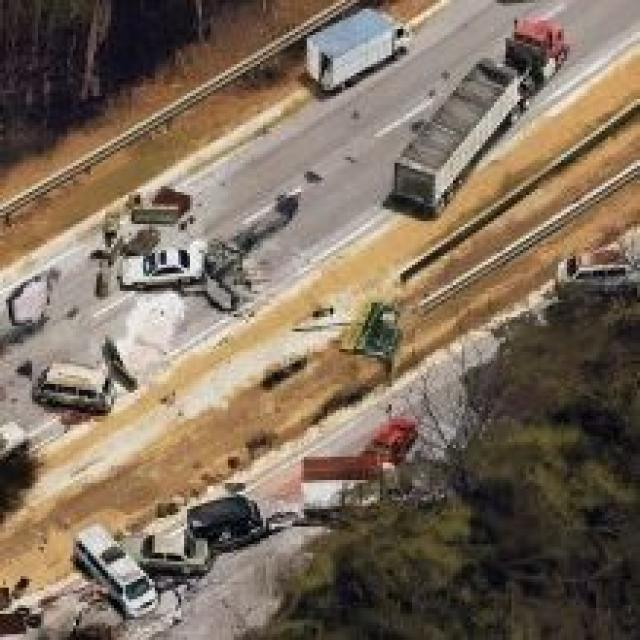traffic_incident: (97, 227, 222, 294), (20, 352, 117, 404), (129, 535, 216, 573)
